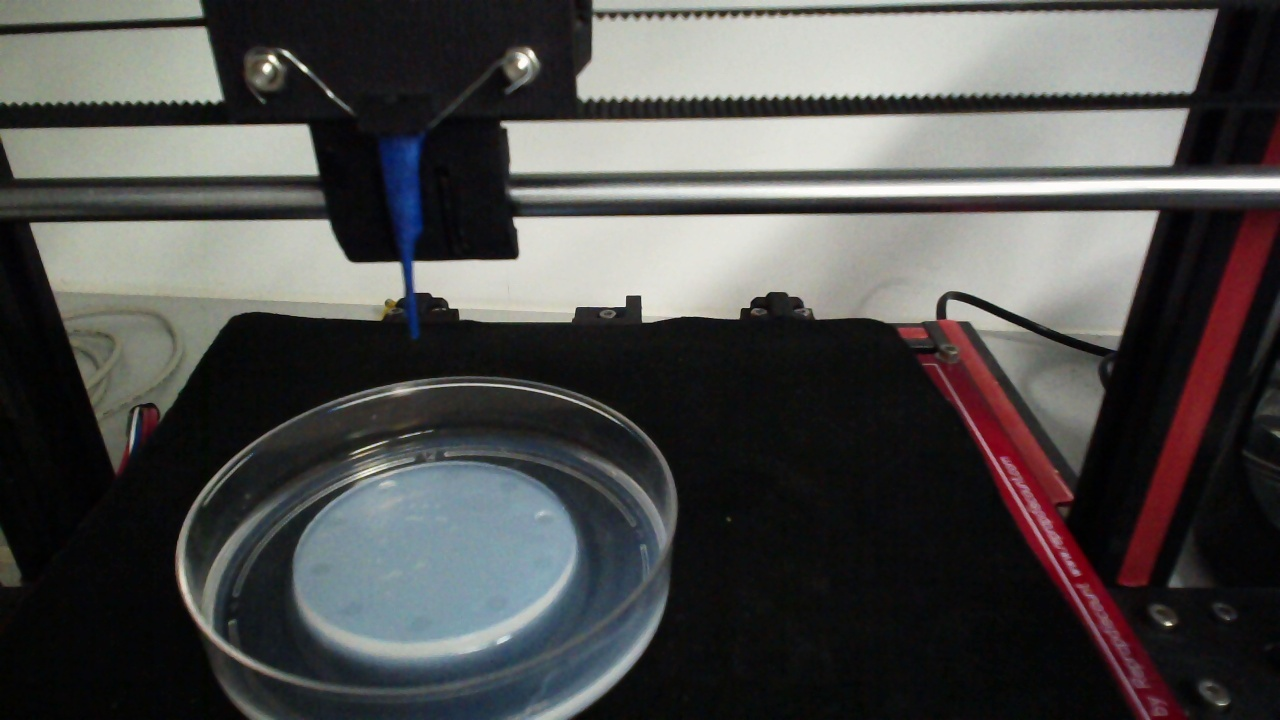groove: (484, 594, 509, 614), (339, 599, 366, 617), (308, 559, 333, 578), (409, 615, 431, 634), (532, 510, 557, 526), (531, 554, 554, 570), (497, 478, 519, 494), (376, 478, 397, 494), (328, 514, 351, 528), (440, 469, 461, 483)
needle: (382, 138, 423, 341)
